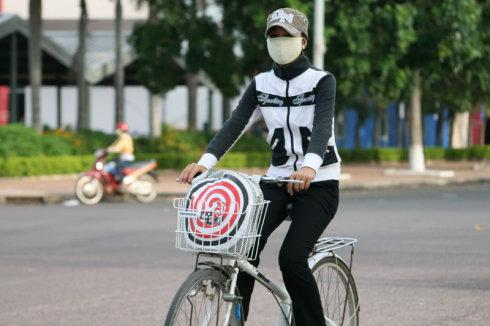OK: (266, 27, 303, 64)
